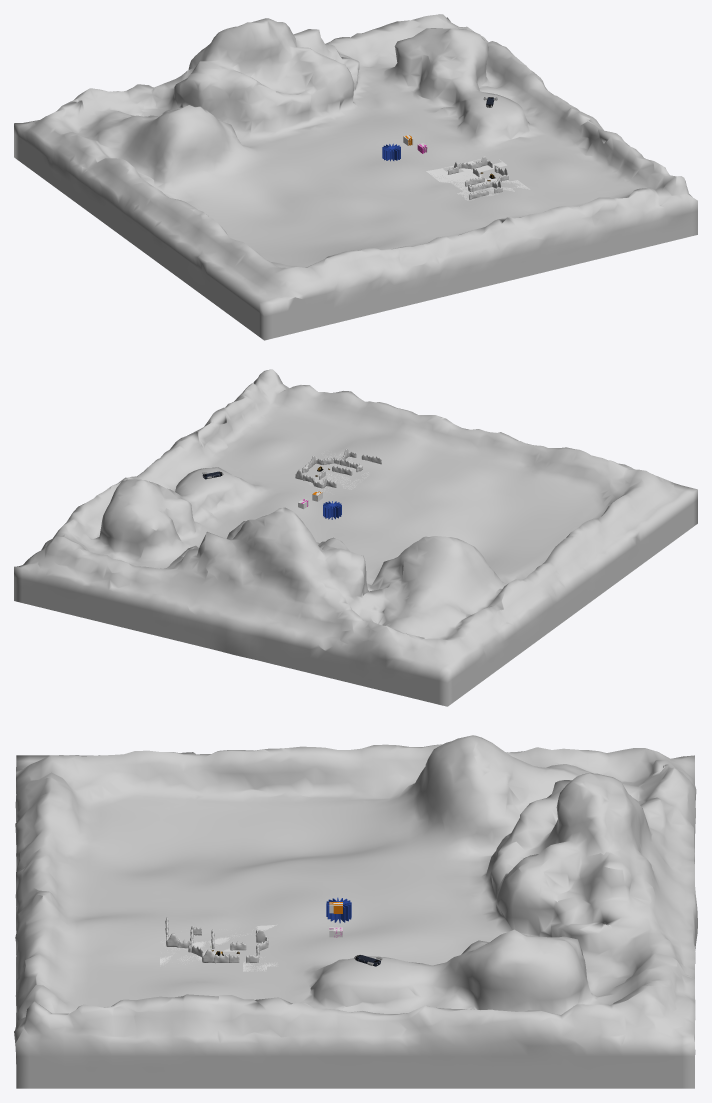
Rendered from TerrainTest.gltf.
The picture shows the model from 3 angles, top to bottom: view 1: azimuth 30°, elevation 25°; view 2: azimuth 150°, elevation 25°; view 3: azimuth 270°, elevation 25°; orthographic projection. The views are drawn at different scales.
Parts seen in each view (by area): view 1: Terrain, GrassSection01; view 2: Terrain; view 3: Terrain, GrassSection01.
Boxes of the visible parts, box(x1,y1,x2,y2) form: Terrain: box(14, 14, 697, 340); GrassSection01: box(426, 159, 530, 200); Terrain: box(14, 369, 697, 706); Terrain: box(14, 735, 697, 1088); GrassSection01: box(160, 924, 277, 971).
Size of what is drawn, in the model's own units: 490 by 125 by 492.
